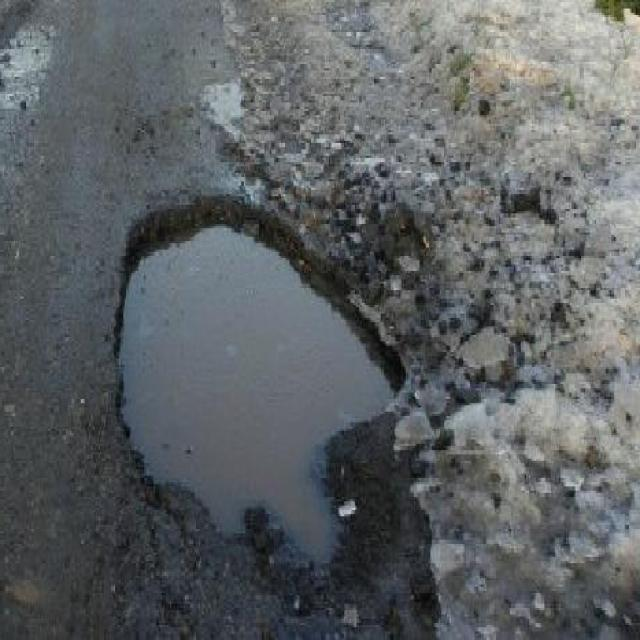Pothole: (110, 191, 417, 567), (501, 189, 564, 251), (456, 319, 519, 370)
